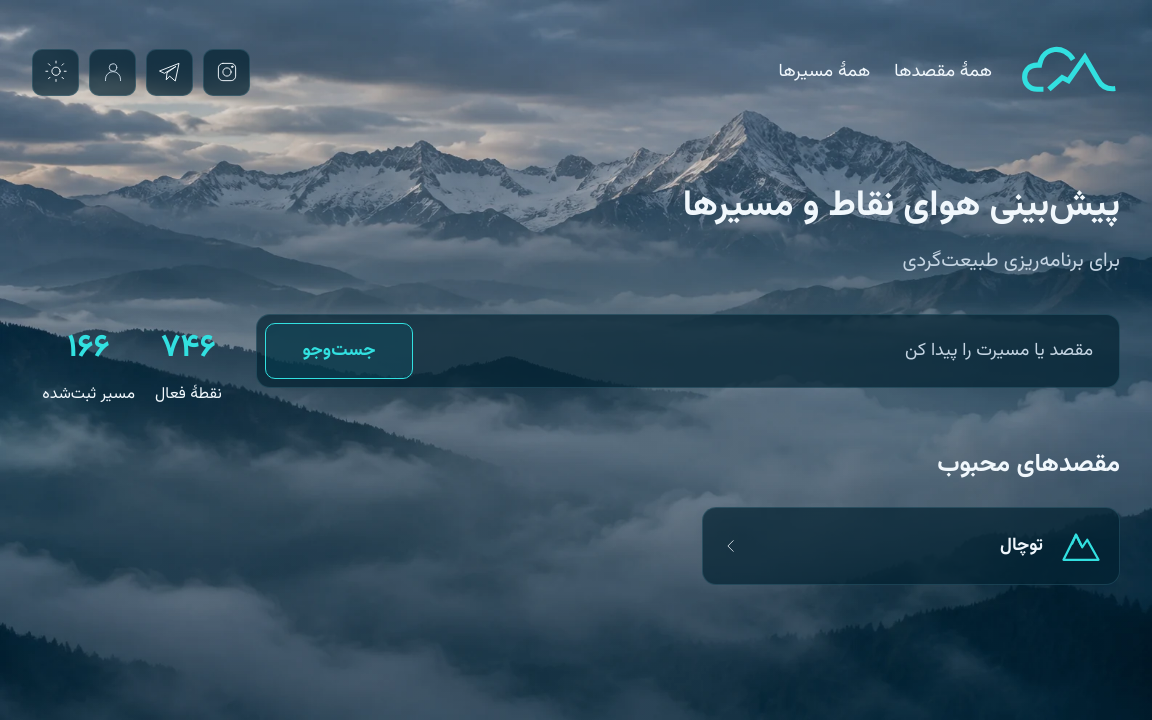
Scenario: approved week forecast and unchanged public pages › preserves the server rejection of a login code
The width and height of the screenshot is (1152, 720).
Check: the text "۷۴۶" is shown, box 161,323 -> 216,373
Step 1. Click the button named "ورود" → {"x": 112, "y": 72}, box 89,49 -> 136,96
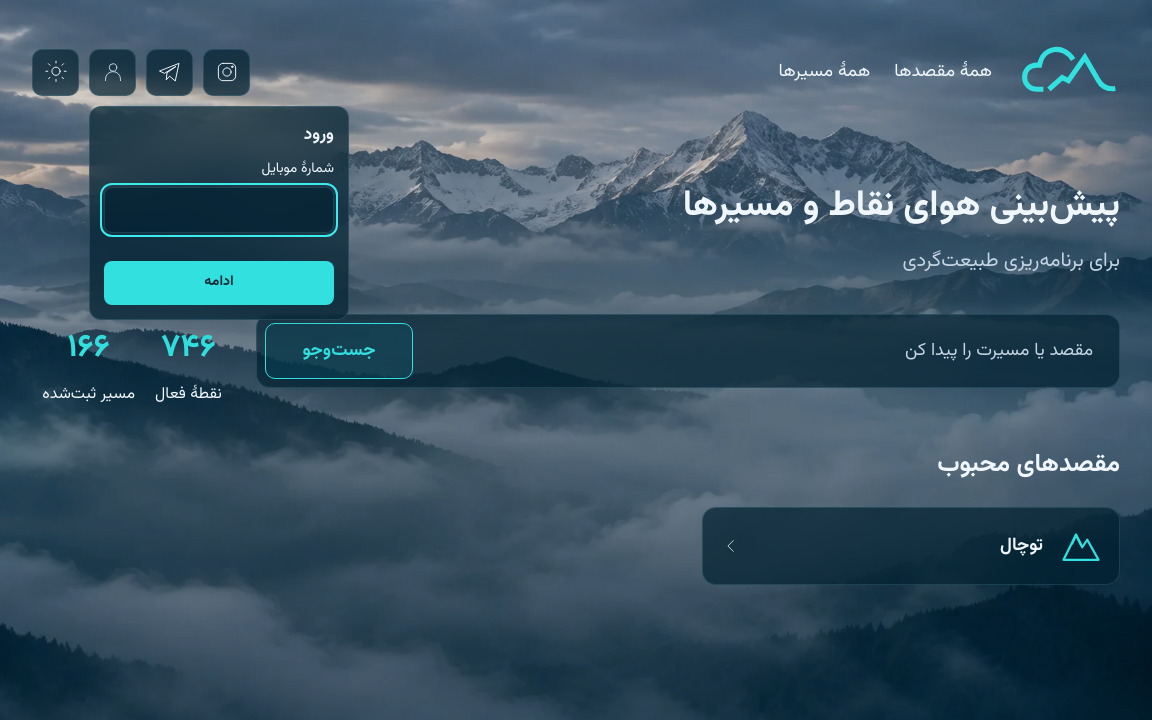
Step 2. Type "09111111111" into the field labelled "شمارهٔ موبایل" → {"x": 219, "y": 210}, box 104,187 -> 334,232
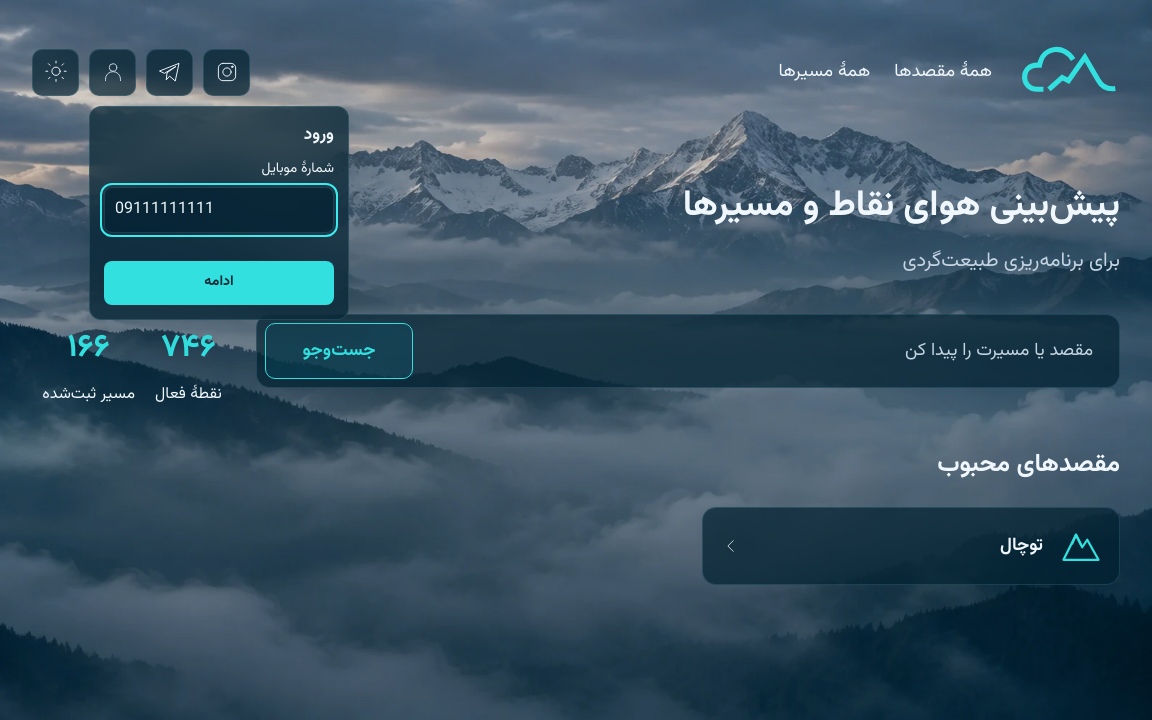
Step 3. Click the button "ادامه" → {"x": 219, "y": 282}, box 104,260 -> 334,304
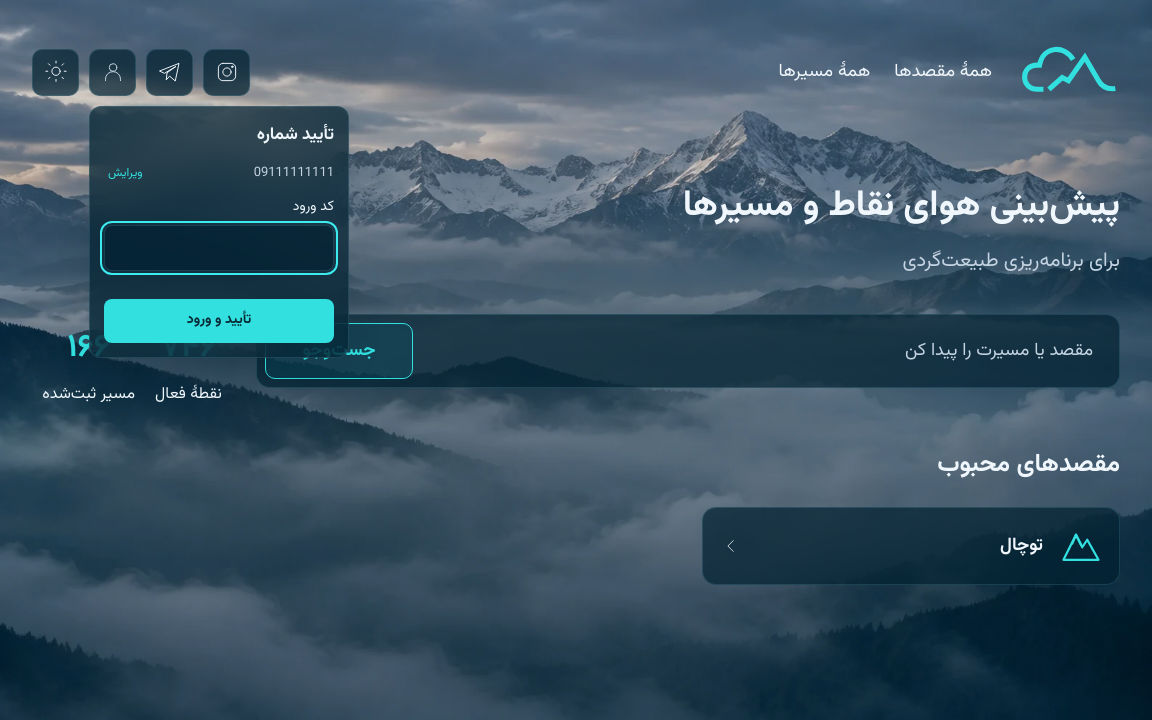
Step 4. Type "4321" into the field labelled "کد ورود" → {"x": 219, "y": 248}, box 104,225 -> 334,270
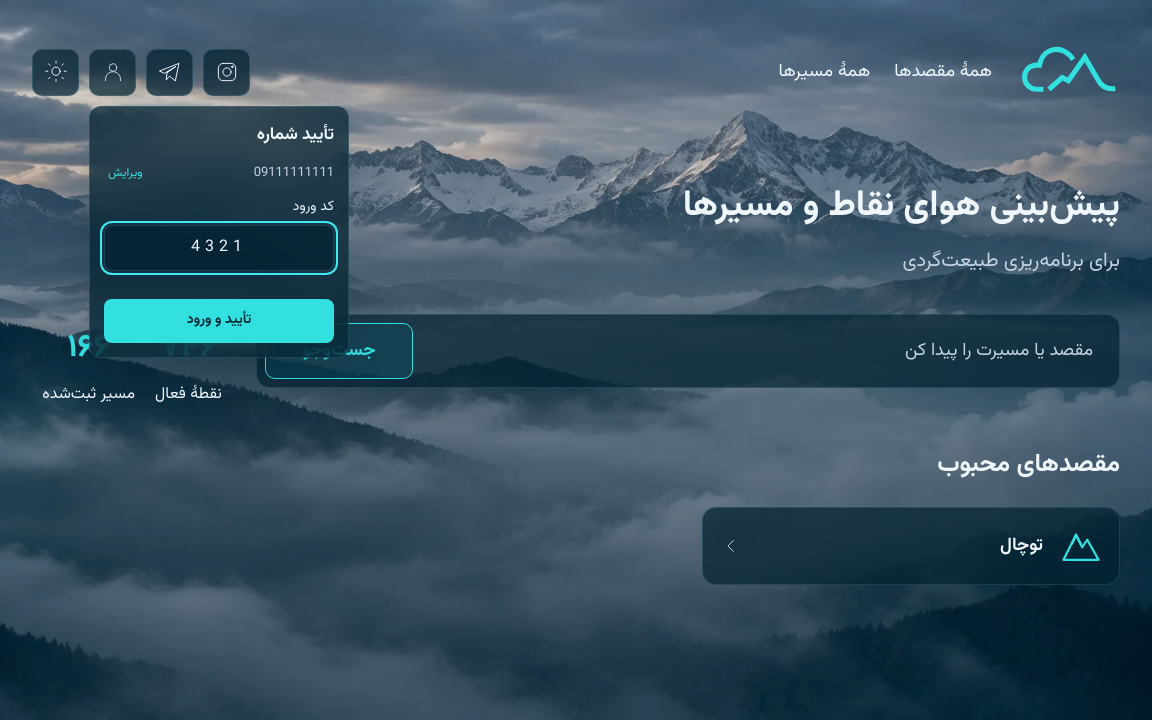
Step 5. Click the button "تأیید و ورود" → {"x": 219, "y": 320}, box 104,298 -> 334,342
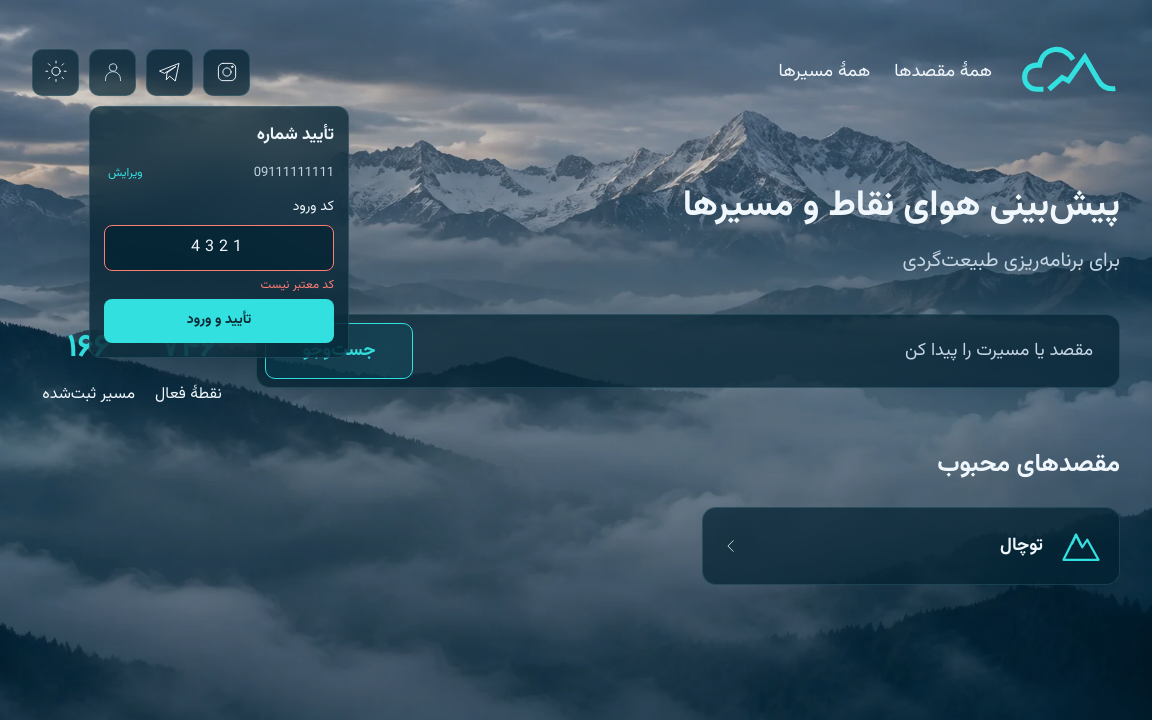
Check: the text "کد معتبر نیست" is shown, box 260,276 -> 334,294
